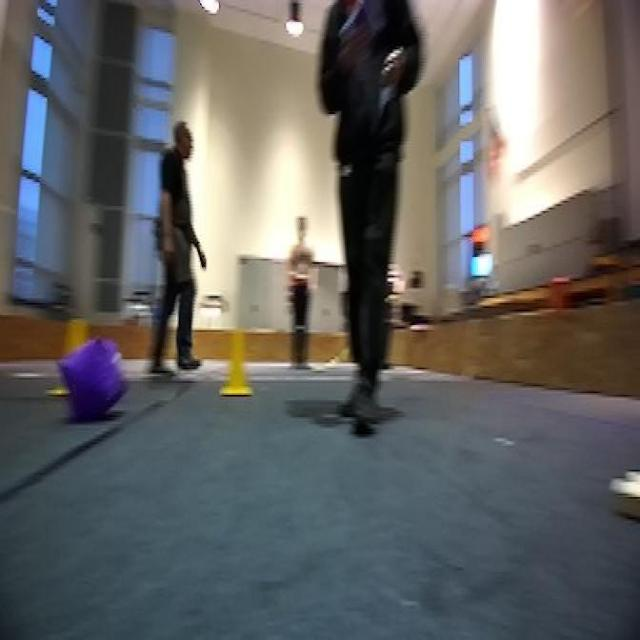frc_cone: (223, 325, 251, 398), (58, 300, 91, 350)
frc_cube: (57, 332, 116, 434)
